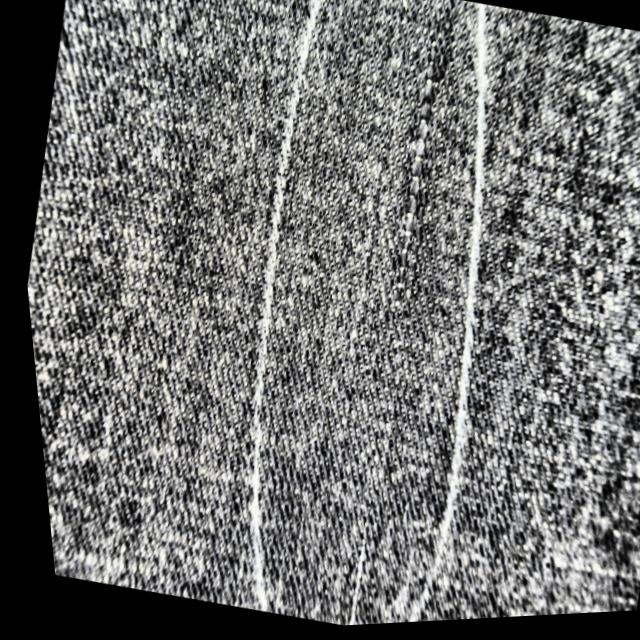Hole: (383, 0, 464, 301)
